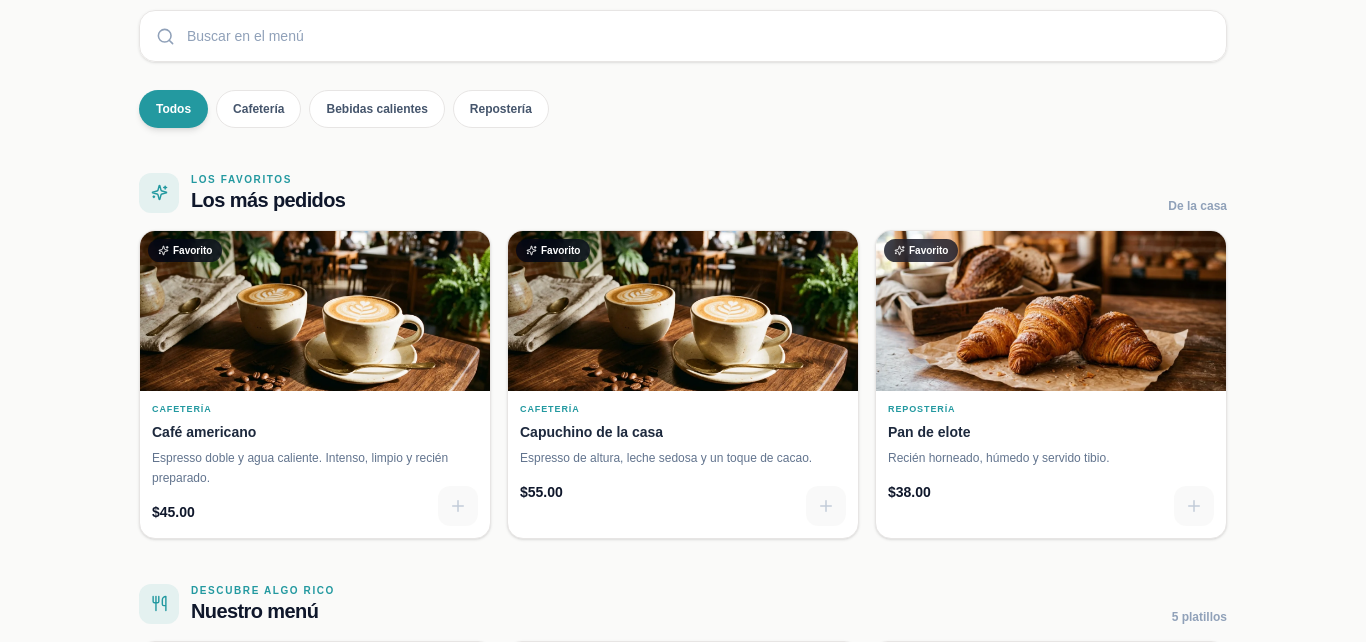
Test: Menú digital público por slug › no ofrece agregar a la orden a cuentas que no son clientes
(page scrolled)
Click the button with aria-label "Ver detalles de Café americano": click(315, 384) [140,231,490,538]
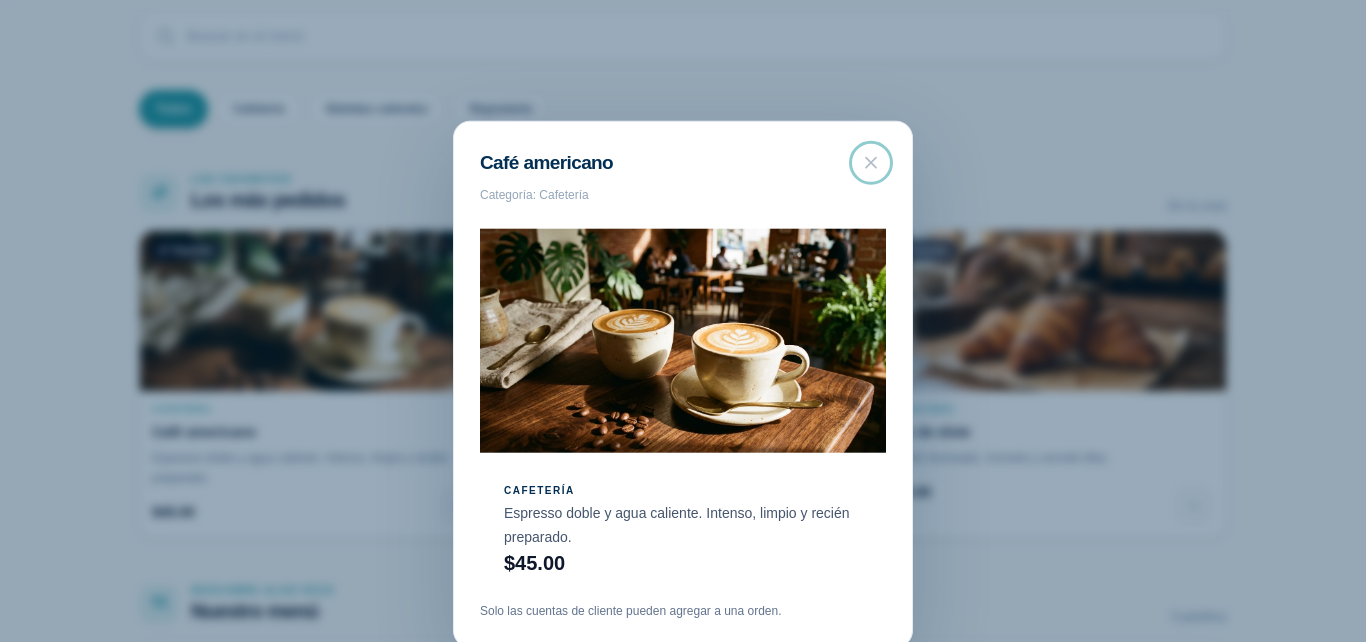
expect the text "Solo las cuentas de cliente pueden agregar a una orden." is shown: met, box [480,603,782,617]
